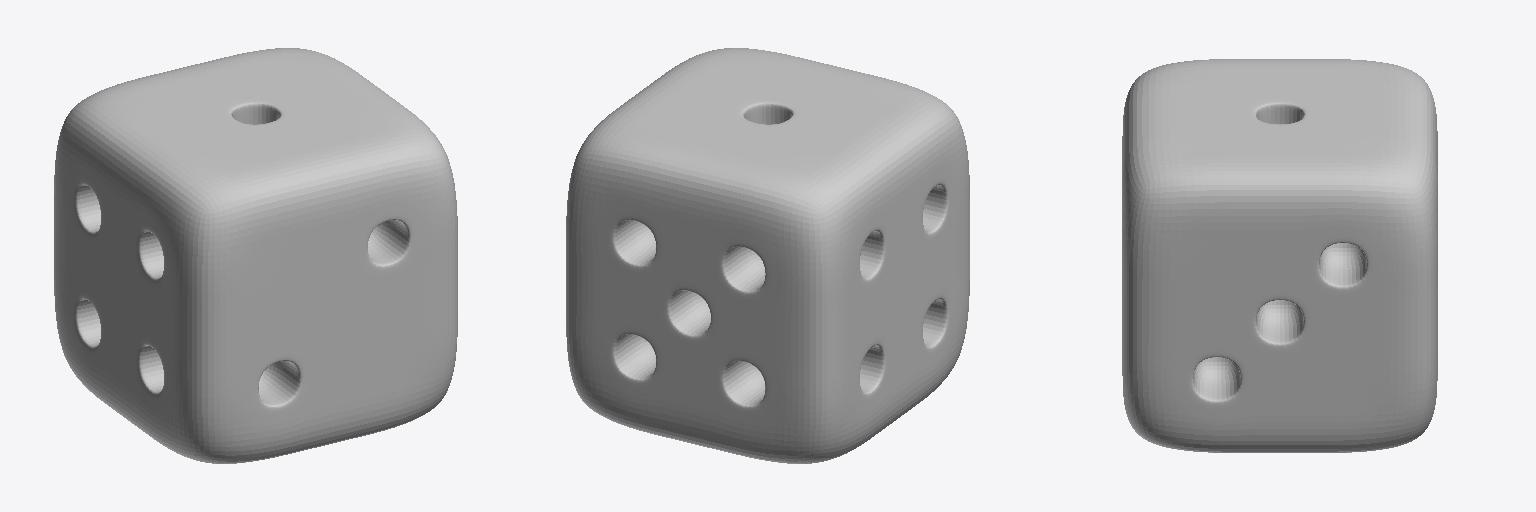
File: Small_dice.obj
3 renders of one model, left to right at view 1: azimuth 30°, elevation 25°; view 2: azimuth 150°, elevation 25°; view 3: azimuth 270°, elevation 25°, orthographic.
Visible parts, largest first — view 1: Cube.001; view 2: Cube.001; view 3: Cube.001.
Part boxes in pixels (x1,y1,x2,y2): Cube.001: (54, 48, 457, 463); Cube.001: (566, 48, 969, 463); Cube.001: (1122, 59, 1437, 452).
Size of the model in its own units: 100 by 100 by 100.